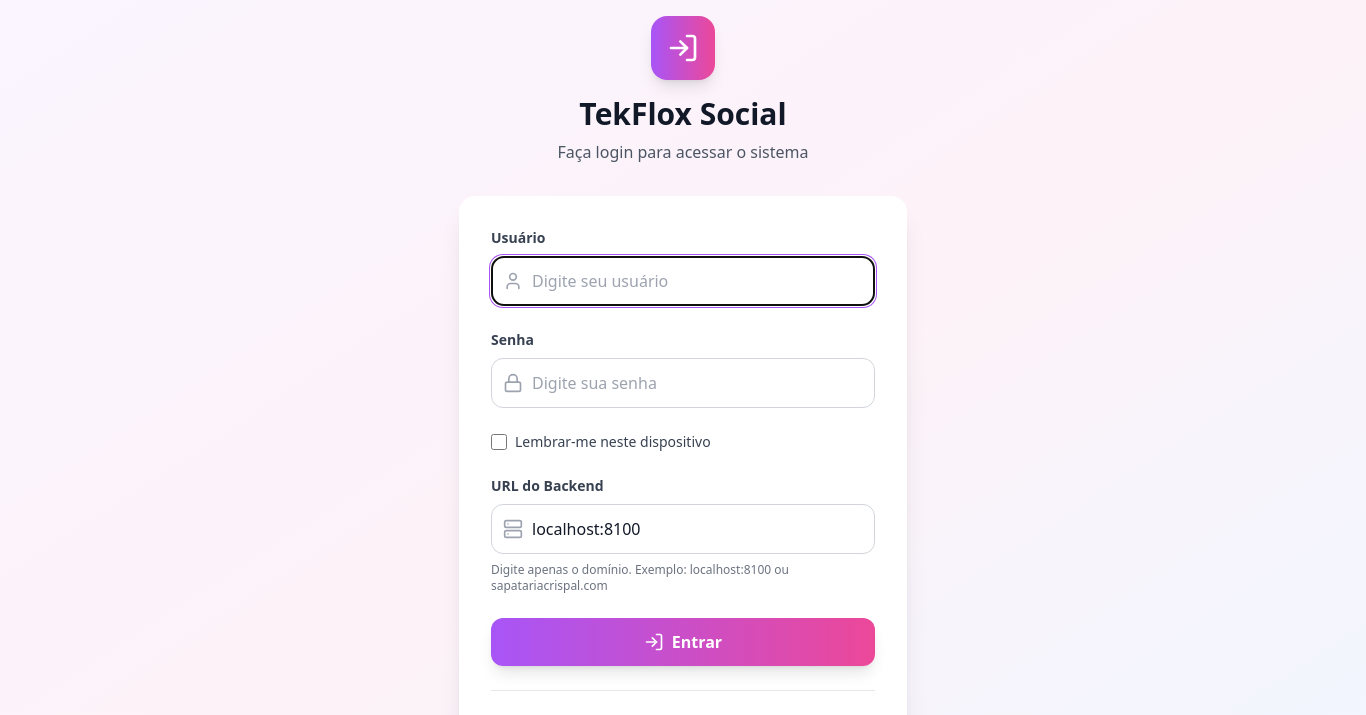
Test case: Login › deve validar campo backend URL vazio
The image size is (1366, 715).
Step 1. Type "admin" into the field labelled "Usuário" → (683, 281), box [491,256,875,306]
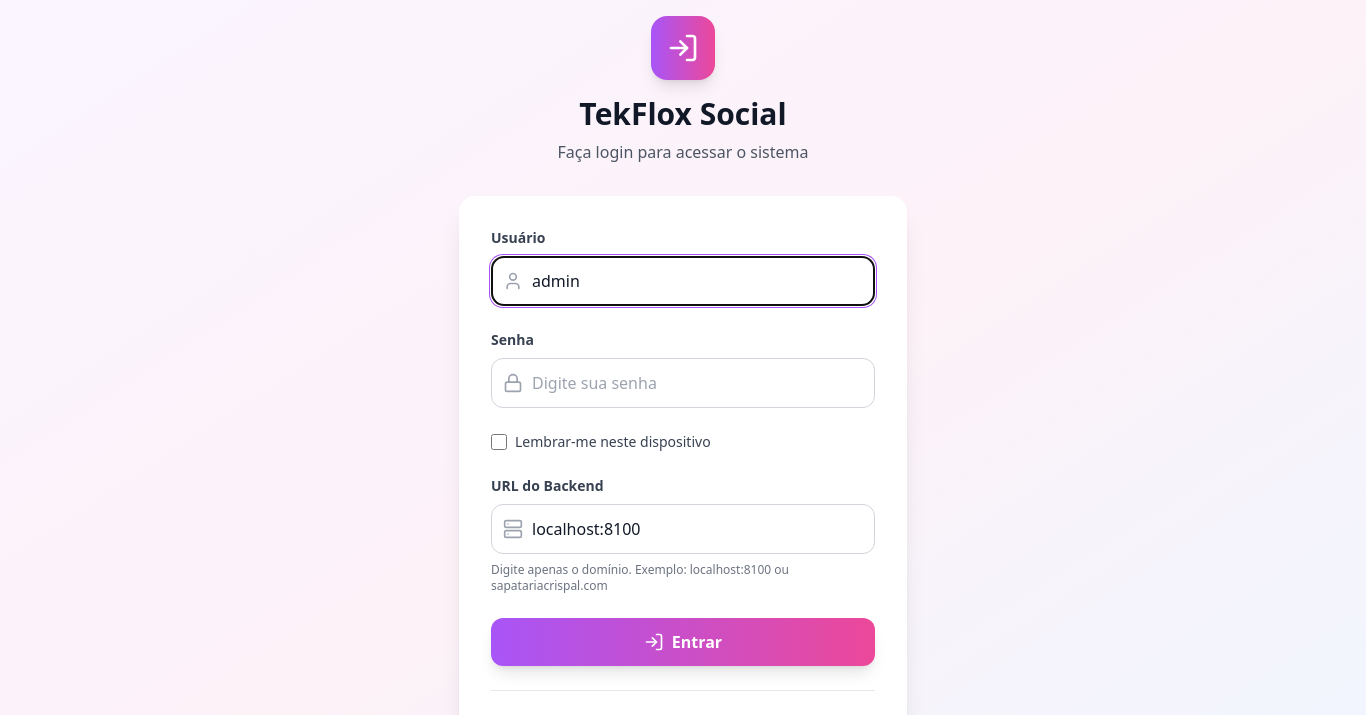
Step 2. Type "admin123" into the password field labelled "Senha" → (683, 383), box [491,358,875,408]
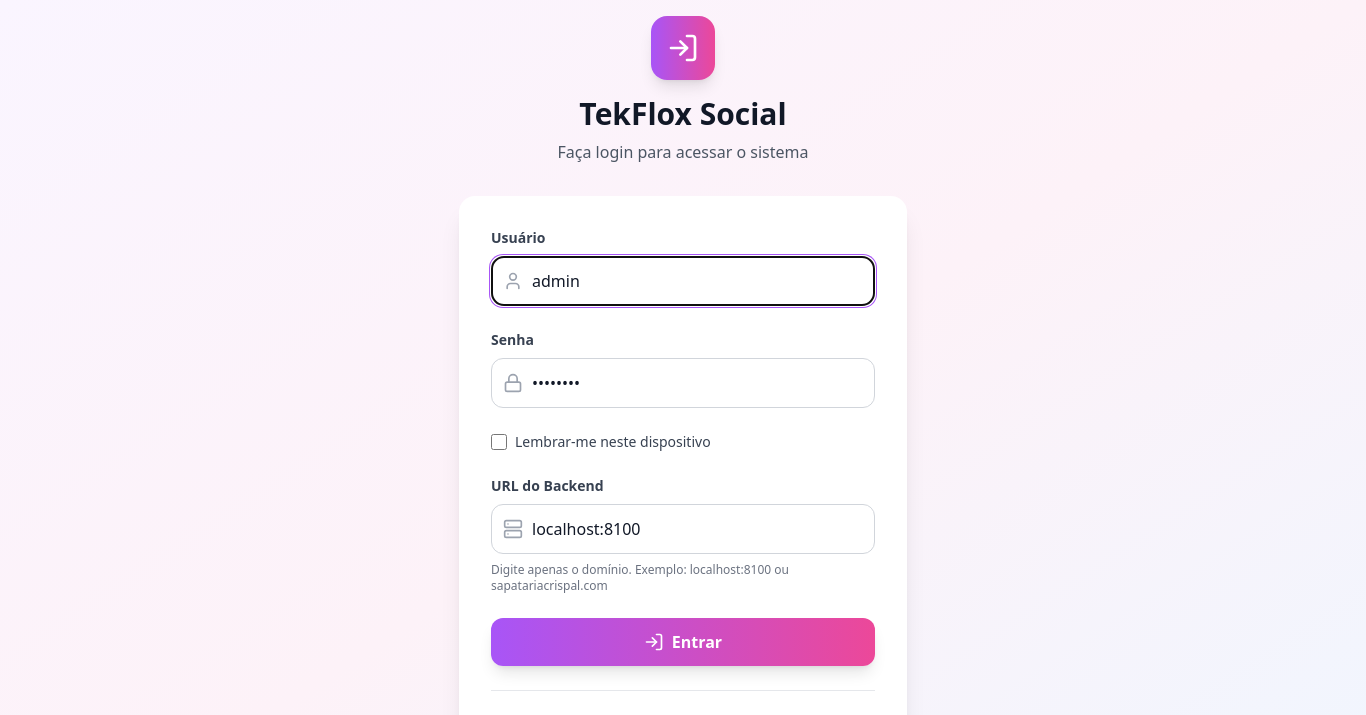
Step 3. Clear the field labelled "URL do Backend" → (683, 529), box [491,504,875,554]
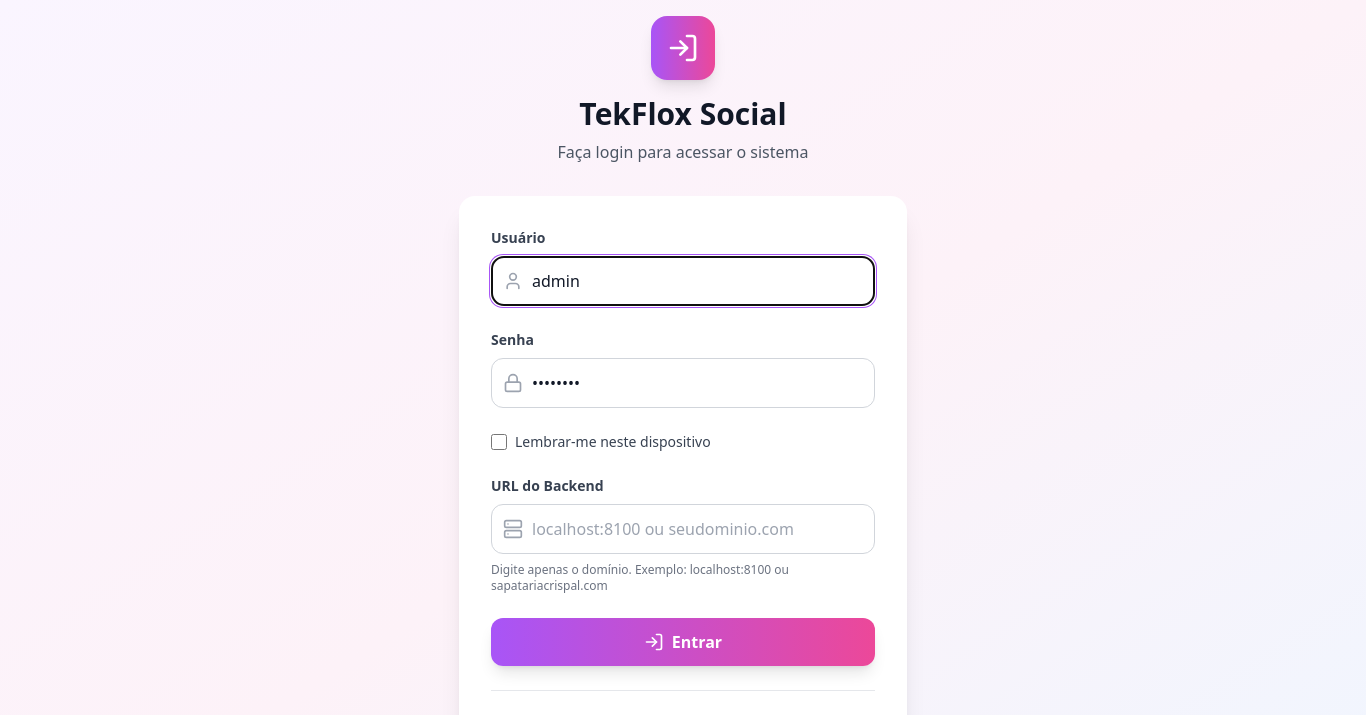
Step 4. Click the button "Entrar" → click(683, 642), box [491,618,875,666]
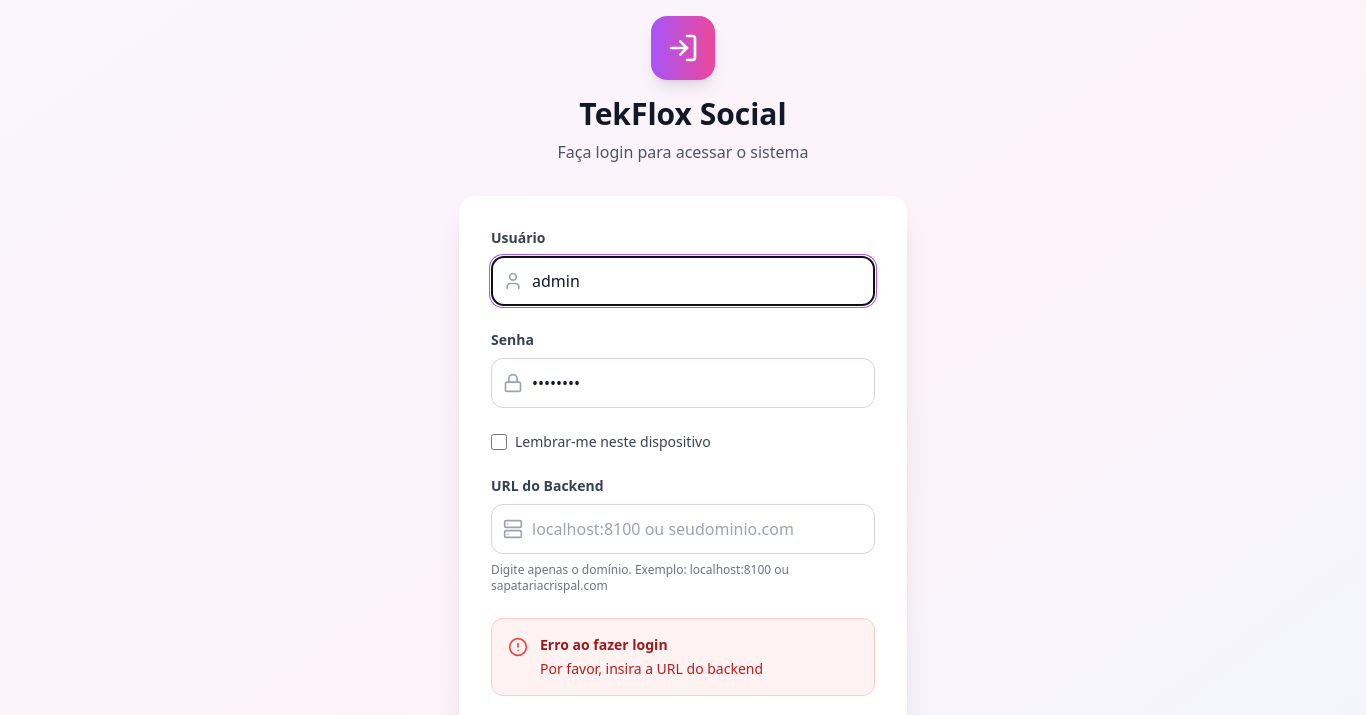
Expected: the text "Por favor, insira a URL do backend" is shown, [540,659,763,678]
